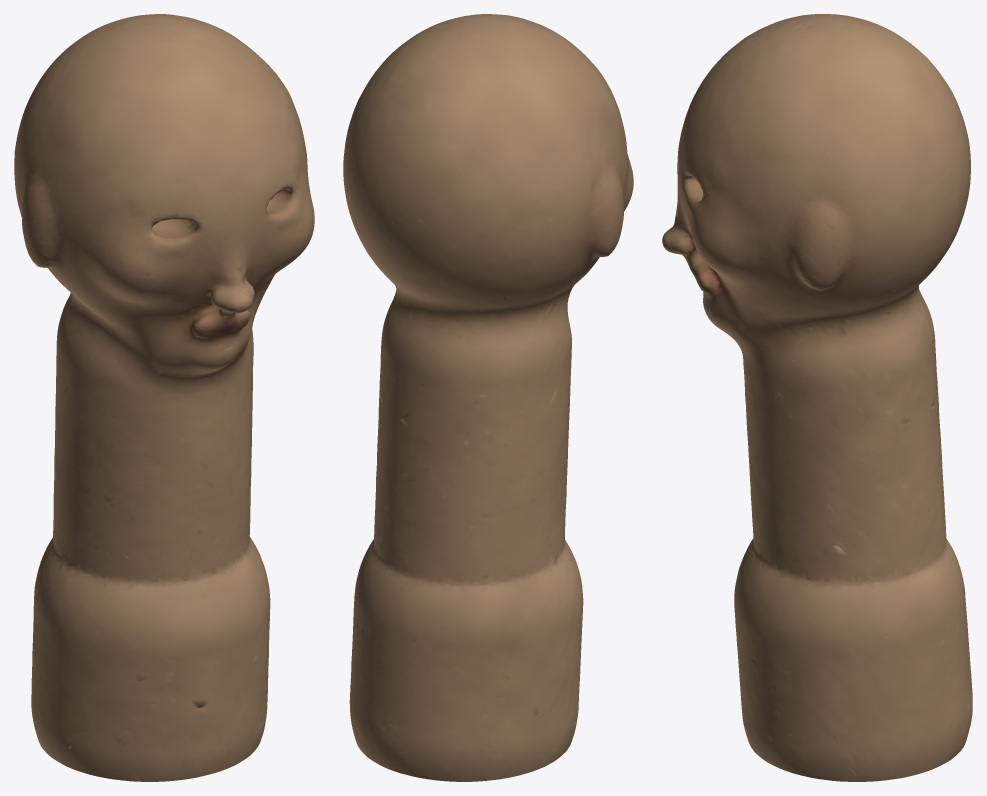
The model's file is nevzat_skin.glb.
3 renders of one model, left to right at view 1: azimuth 30°, elevation 25°; view 2: azimuth 150°, elevation 25°; view 3: azimuth 270°, elevation 25°, orthographic. The views are drawn at different scales.
Parts seen in each view (by area): view 1: geometry_0; view 2: geometry_0; view 3: geometry_0.
Part boxes in pixels (x1=…): geometry_0: x1=14, y1=14, x2=314, y2=781; geometry_0: x1=343, y1=14, x2=633, y2=781; geometry_0: x1=662, y1=14, x2=972, y2=781.
Size of the model in its own units: 0.1674 by 0.4247 by 0.1693.
